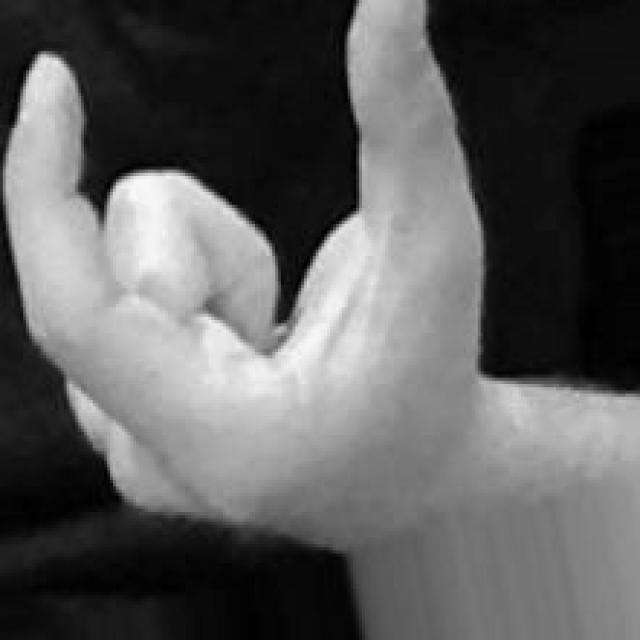U: (3, 0, 485, 548)
